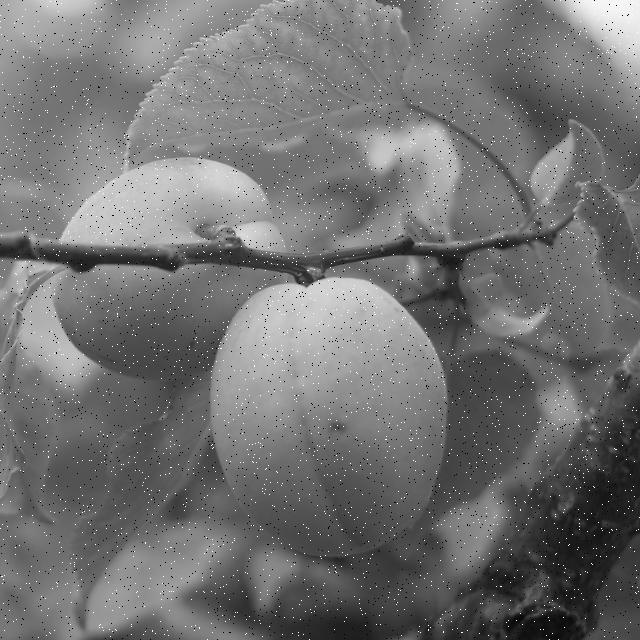kayisi: (223, 290, 458, 530), (63, 164, 257, 334)
yaprak: (0, 338, 188, 564), (99, 31, 442, 148), (496, 128, 634, 344)
